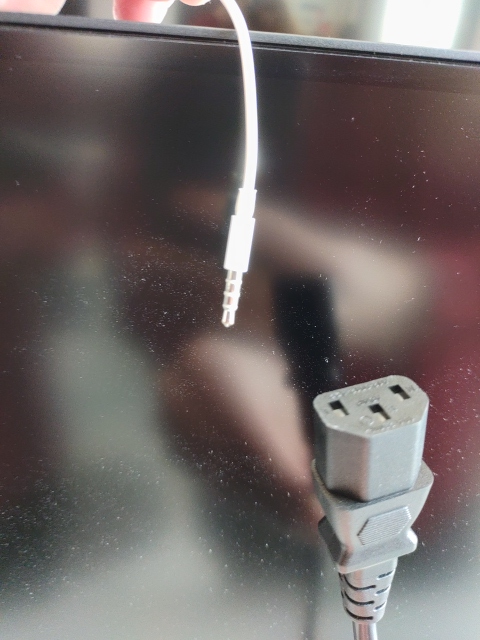3.5mm_audio: (220, 270, 244, 328)
IEC-Power: (314, 375, 429, 447)
